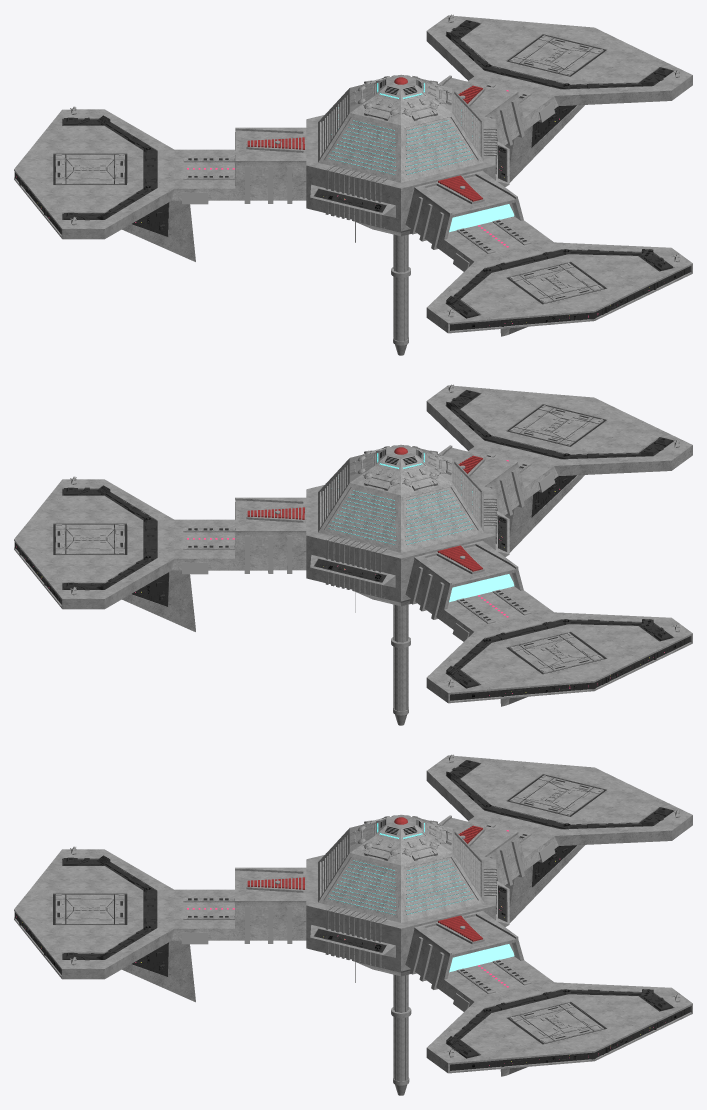
The picture shows the model from 3 angles, top to bottom: view 1: azimuth 30°, elevation 25°; view 2: azimuth 150°, elevation 25°; view 3: azimuth 270°, elevation 25°; orthographic projection.
Visible parts, largest first — view 1: Platforms, MainSection, PlatformGreebles2, MainSectionGreebles, MainSection2, PlatformGreebles, MainSectionGreebles2, MainSectionGreebles4; view 2: Platforms, MainSection, PlatformGreebles2, MainSectionGreebles, MainSection2, PlatformGreebles, MainSectionGreebles2, MainSectionGreebles4; view 3: Platforms, MainSection, PlatformGreebles2, MainSectionGreebles, MainSection2, PlatformGreebles, MainSectionGreebles2, MainSectionGreebles4.
Boxes of the visible parts, x1,y1,x2,y2 form: Platforms: [14, 14, 692, 336]; MainSection: [306, 74, 495, 236]; PlatformGreebles2: [14, 67, 686, 329]; MainSectionGreebles: [322, 75, 479, 228]; MainSection2: [391, 77, 410, 355]; PlatformGreebles: [187, 85, 508, 247]; MainSectionGreebles2: [310, 141, 509, 217]; MainSectionGreebles4: [316, 146, 506, 242]; Platforms: [14, 384, 692, 706]; MainSection: [306, 444, 495, 606]; PlatformGreebles2: [14, 437, 686, 699]; MainSectionGreebles: [322, 445, 479, 598]; MainSection2: [391, 447, 410, 725]; PlatformGreebles: [187, 455, 508, 617]; MainSectionGreebles2: [310, 511, 509, 587]; MainSectionGreebles4: [316, 516, 506, 612]; Platforms: [14, 754, 692, 1076]; MainSection: [306, 814, 495, 976]; PlatformGreebles2: [14, 840, 686, 1070]; MainSectionGreebles: [322, 815, 479, 968]; MainSection2: [391, 817, 411, 1095]; PlatformGreebles: [187, 825, 508, 987]; MainSectionGreebles2: [310, 881, 509, 957]; MainSectionGreebles4: [316, 886, 506, 982].
Size of the model in its own units: 1045 by 437 by 974.
8 materials, 3 textured.
